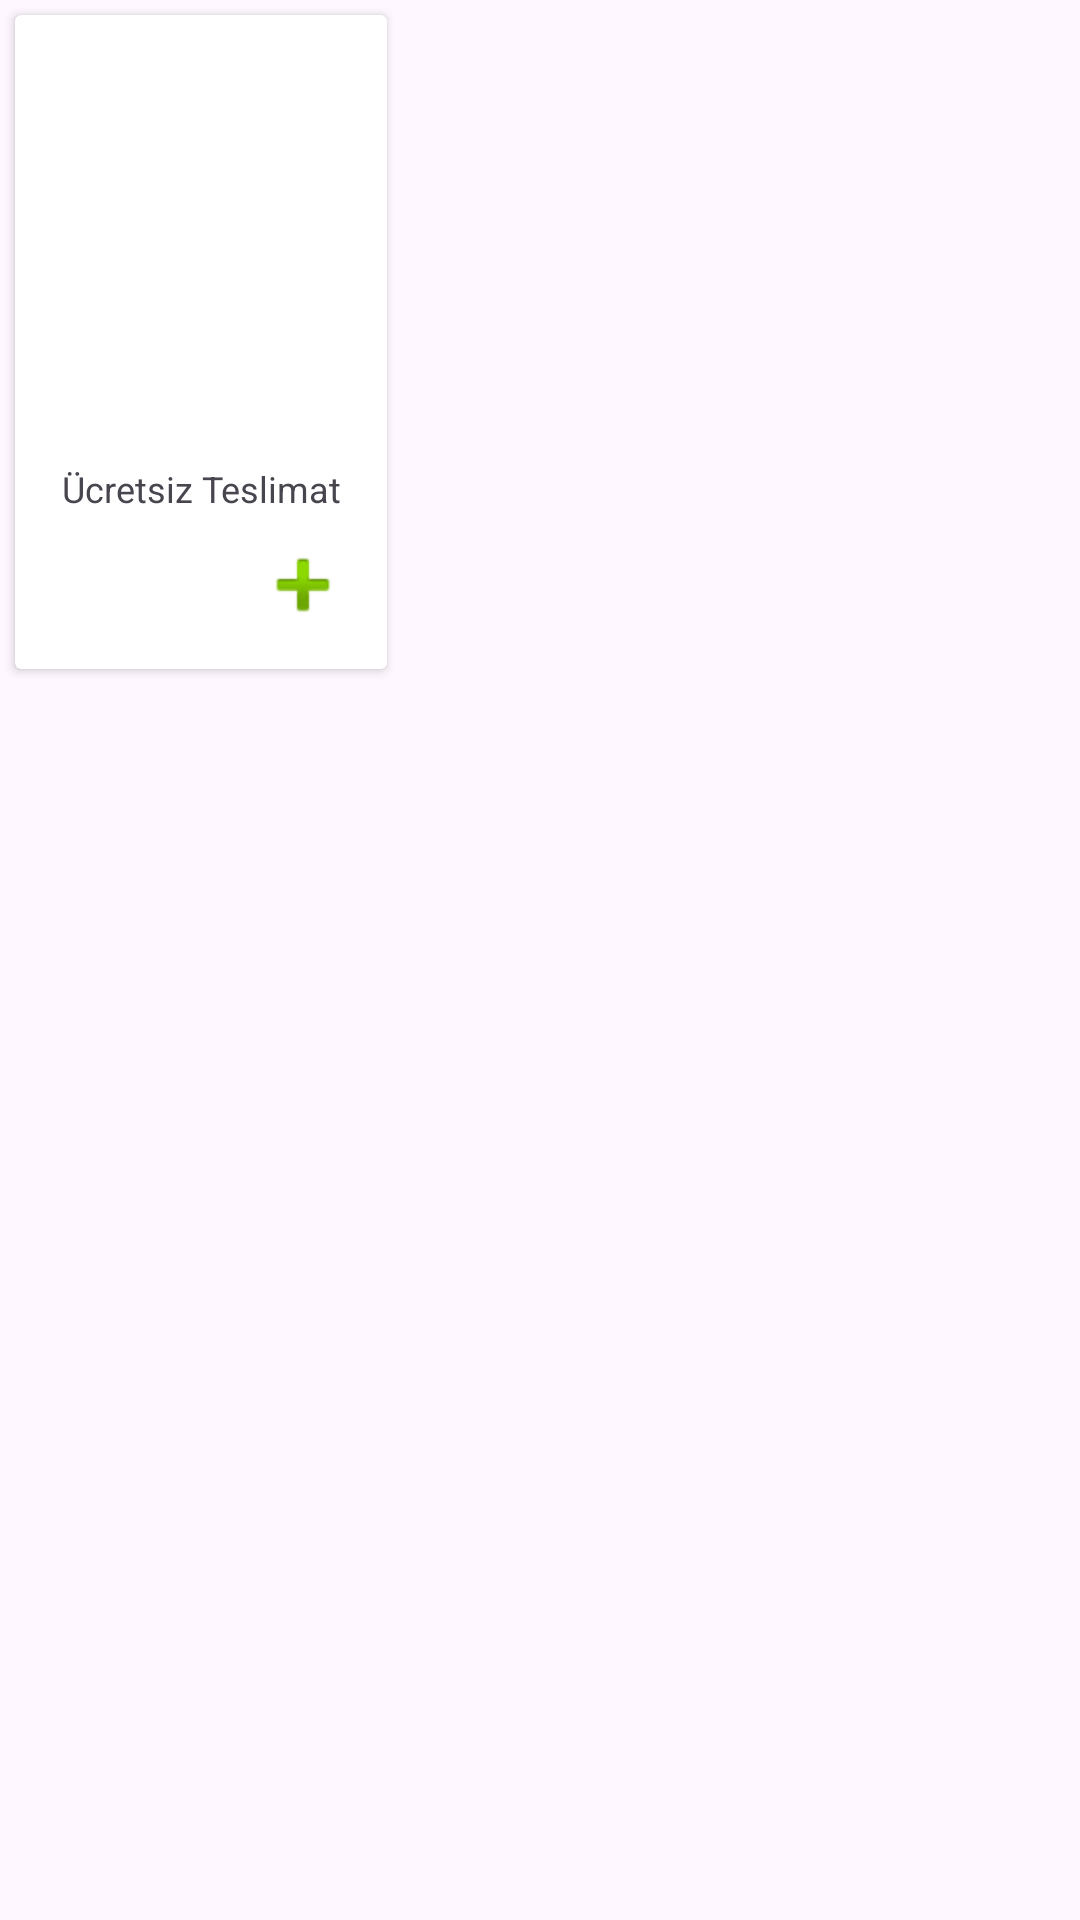

Named icons in this screenshot (1080*1920) and their bounding boxes, (x1, y1, x2, y2):
add: (276, 558, 330, 612)
